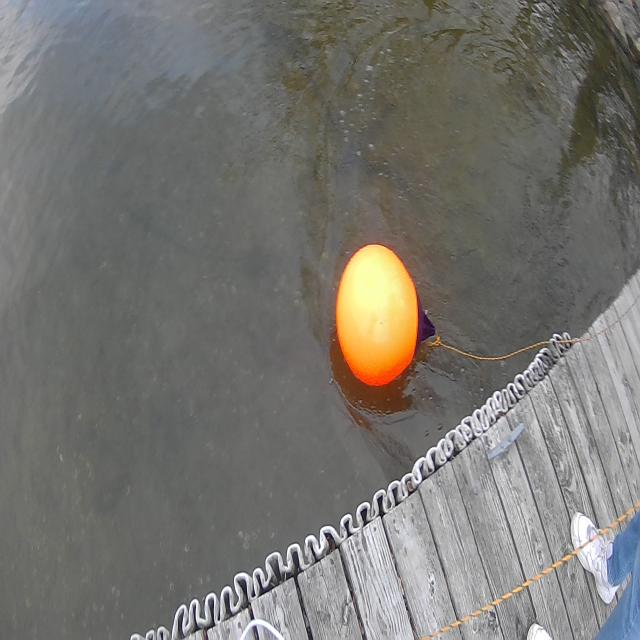Buoy: (328, 236, 442, 402)
